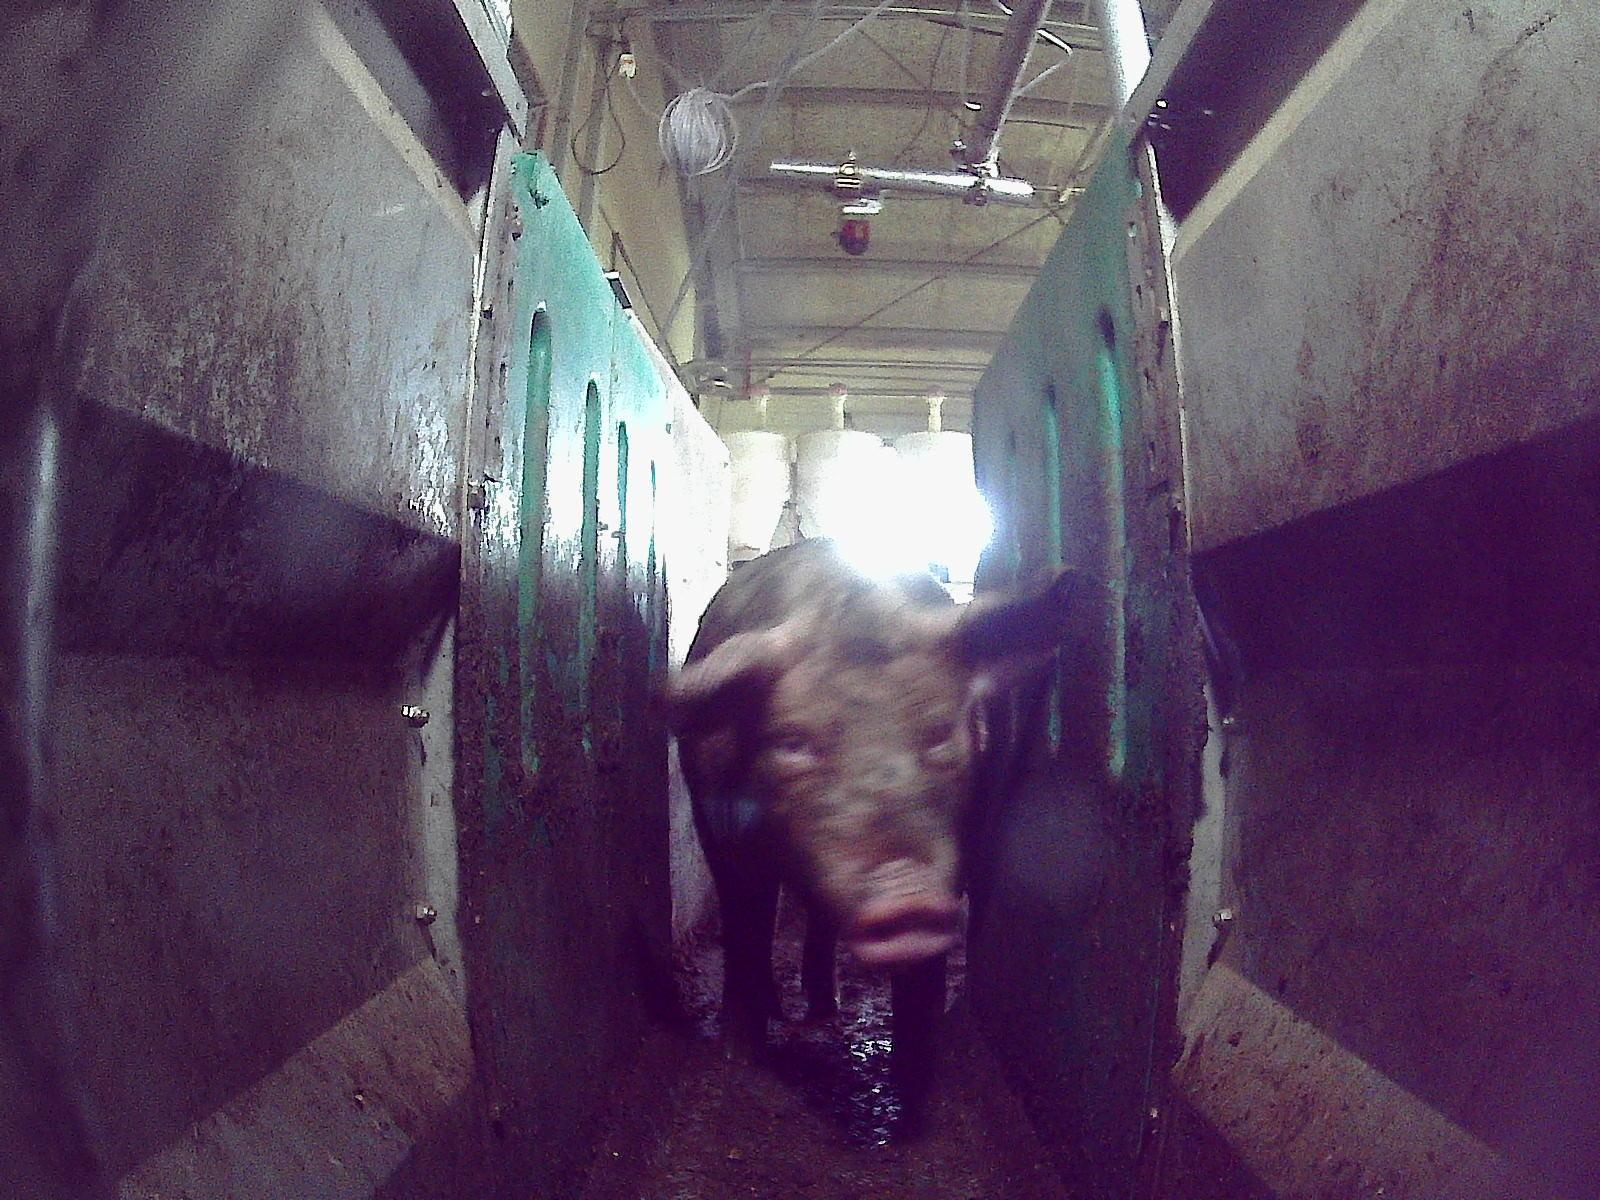Face: (754, 620, 974, 959)
